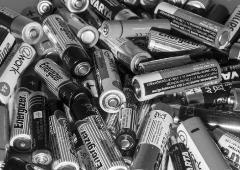electronic: (36, 12, 100, 84)
